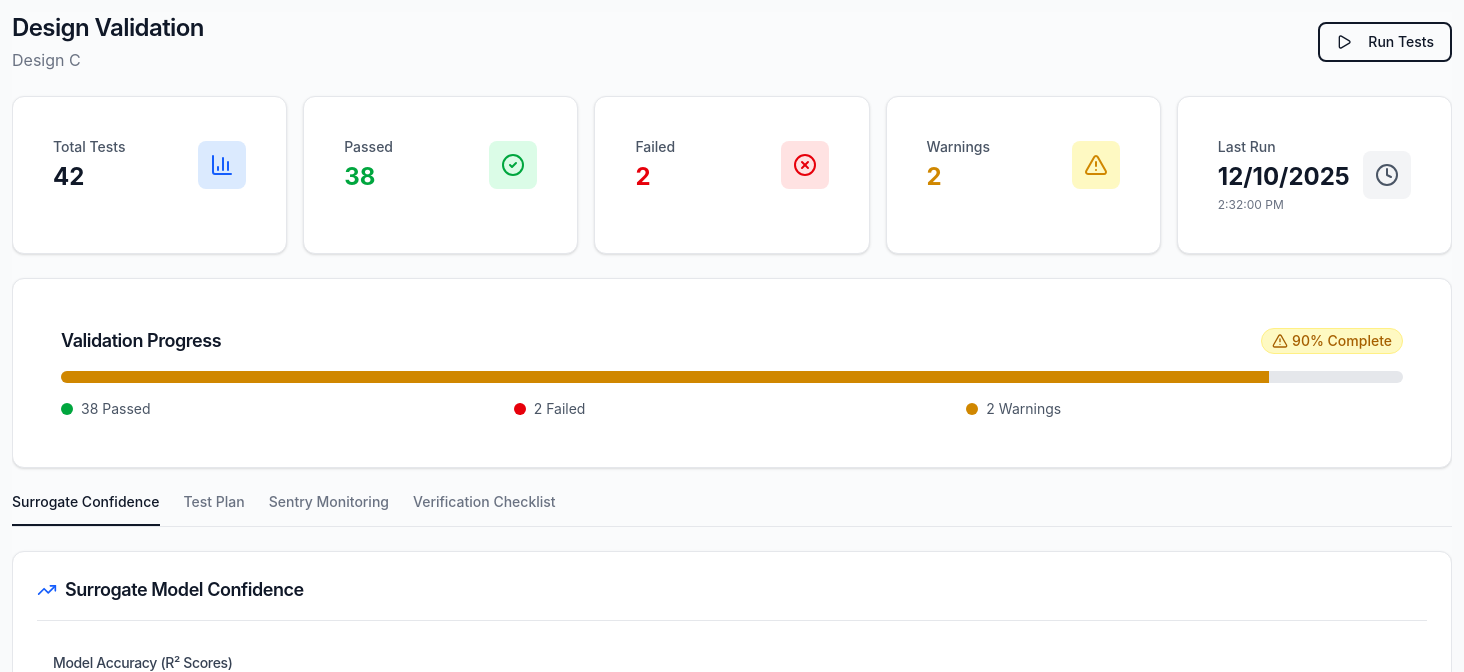
it: ValidationScreen › 81: switches to Test Plan tab
What coordinates should you click on to do the following:
click the tab "Test Plan"
I would click on:
 (214, 509)
Its box is [184,492,245,526].
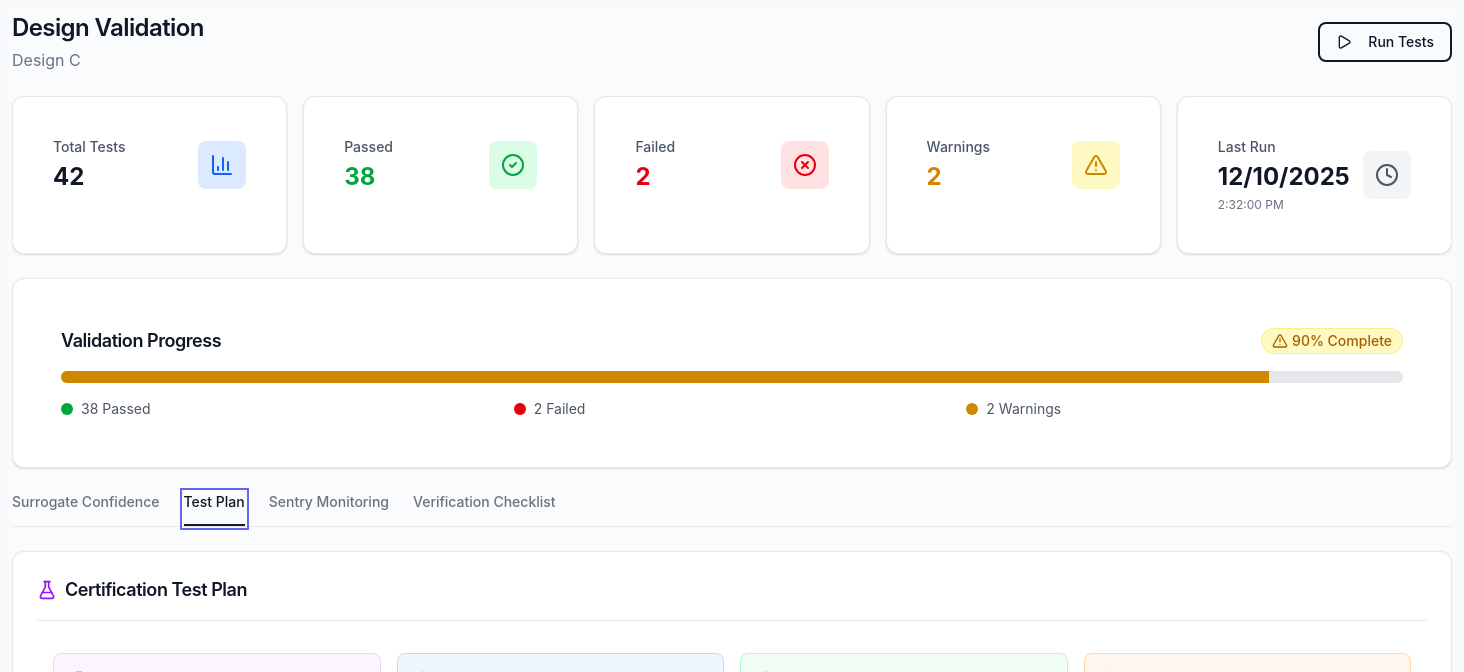
Expected: the heading "Certification Test Plan" is shown, [37,579,247,600]
